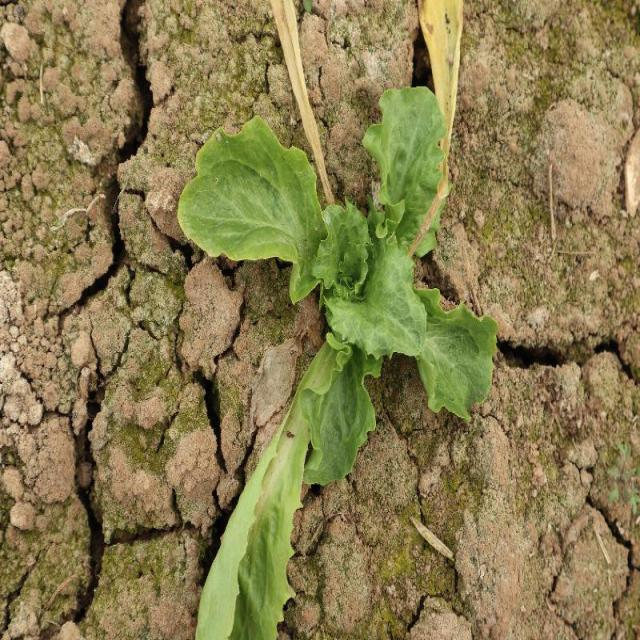crop: (178, 84, 498, 640)
